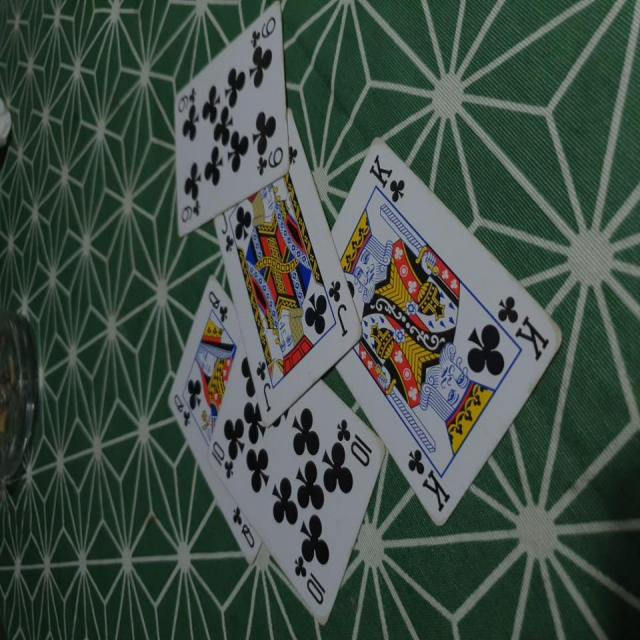10 Trefoils: (205, 328, 385, 623)
9 Trefoils: (171, 1, 291, 238)
J Trefoils: (217, 106, 360, 426)
K Trefoils: (332, 135, 562, 526)
Q Trefoils: (164, 272, 260, 563)
